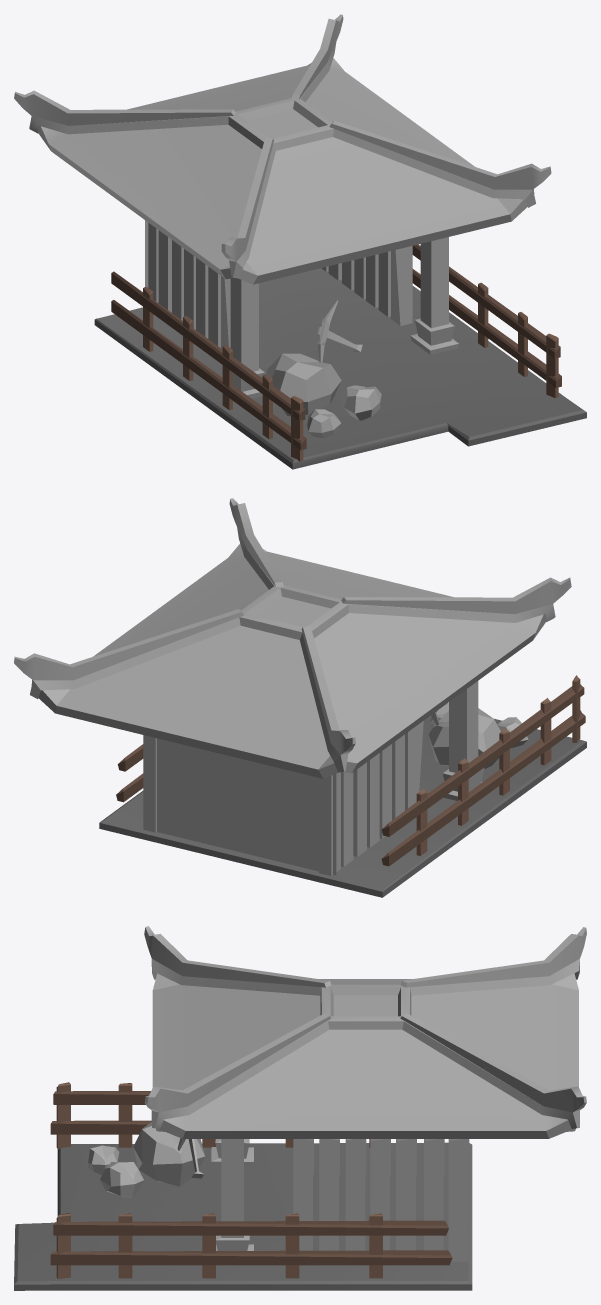
The model's file is mine_1lvl (1).fbx.
The picture shows the model from 3 angles, top to bottom: view 1: azimuth 30°, elevation 25°; view 2: azimuth 150°, elevation 25°; view 3: azimuth 270°, elevation 25°; orthographic projection. The views are drawn at different scales.
Parts seen in each view (by area): view 1: polySurface100; view 2: polySurface100; view 3: polySurface100.
Boxes of the visible parts, box(x1,y1,x2,y2) form: polySurface100: box(14, 14, 586, 469); polySurface100: box(14, 498, 586, 897); polySurface100: box(14, 926, 586, 1290).
Size of the model in its own units: 4.79 by 2.95 by 6.88.
